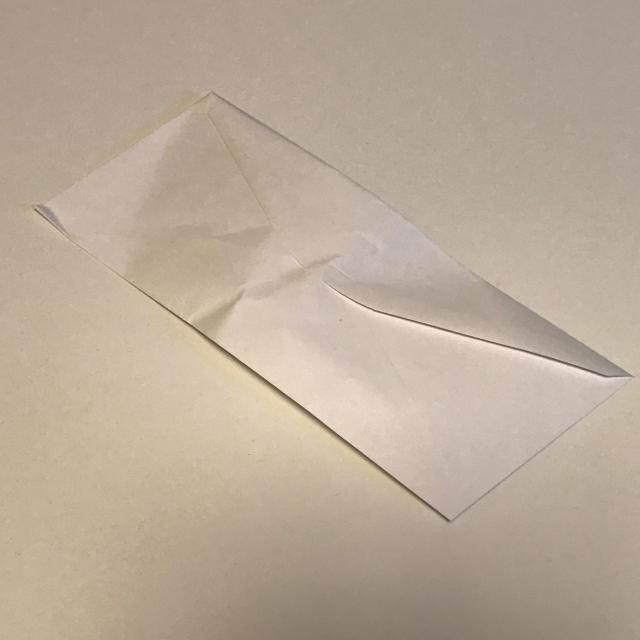paper: (14, 81, 625, 540)
